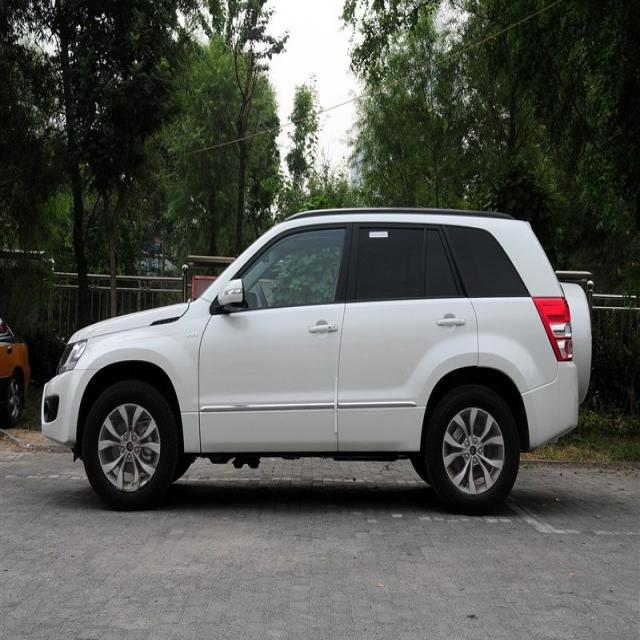back_left_side_light: (532, 296, 574, 361)
door: (342, 220, 475, 441)
front_bumper: (42, 366, 100, 446)
front_left_side_door: (198, 216, 354, 456)
front_left_side_light: (60, 338, 90, 374)
front_left_side_mirror: (216, 278, 246, 312)
rear_bumper: (518, 358, 580, 451)
wheel: (85, 381, 175, 512), (431, 385, 518, 504)
